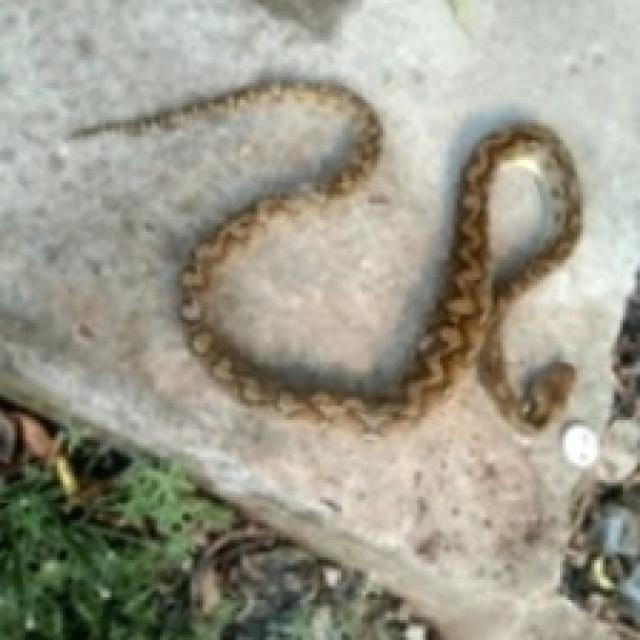reticulated python: (74, 80, 577, 429)
